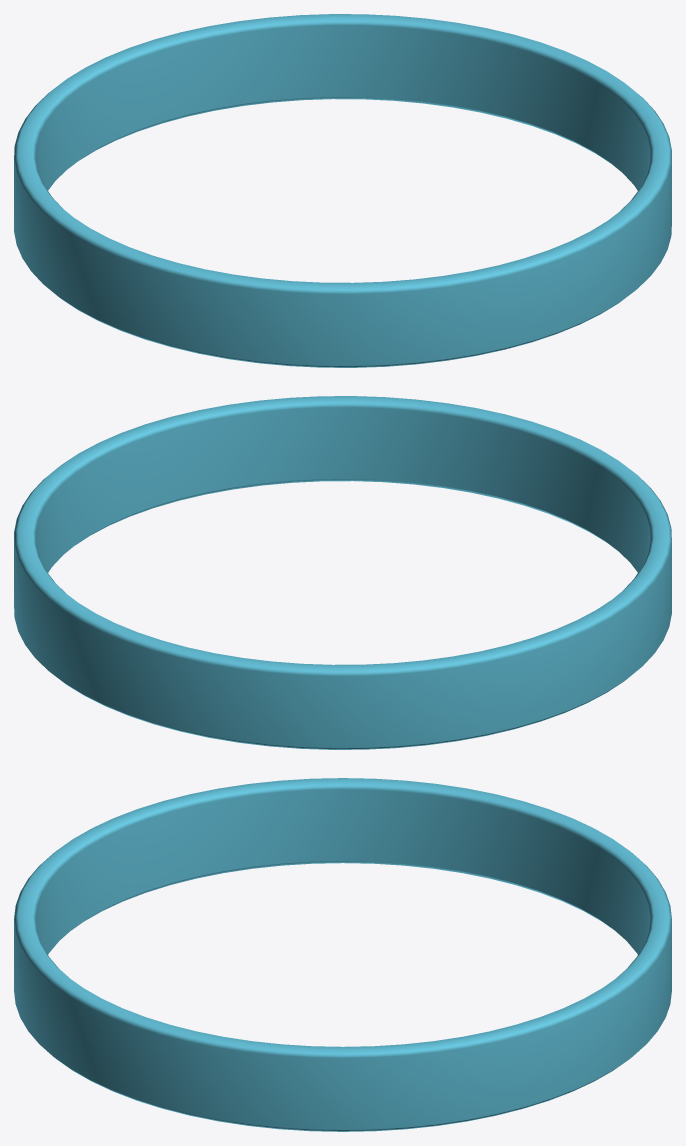
3 renders of one model, top to bottom at view 1: azimuth 30°, elevation 25°; view 2: azimuth 150°, elevation 25°; view 3: azimuth 270°, elevation 25°, orthographic.
Visible parts, largest first — view 1: seal_body; view 2: seal_body; view 3: seal_body.
Boxes of the visible parts, x1=… form: seal_body: x1=14, y1=14, x2=671, y2=367; seal_body: x1=14, y1=396, x2=671, y2=749; seal_body: x1=14, y1=778, x2=671, y2=1131.
Size of the model in its own units: 0.0953 by 0.0127 by 0.0953.
